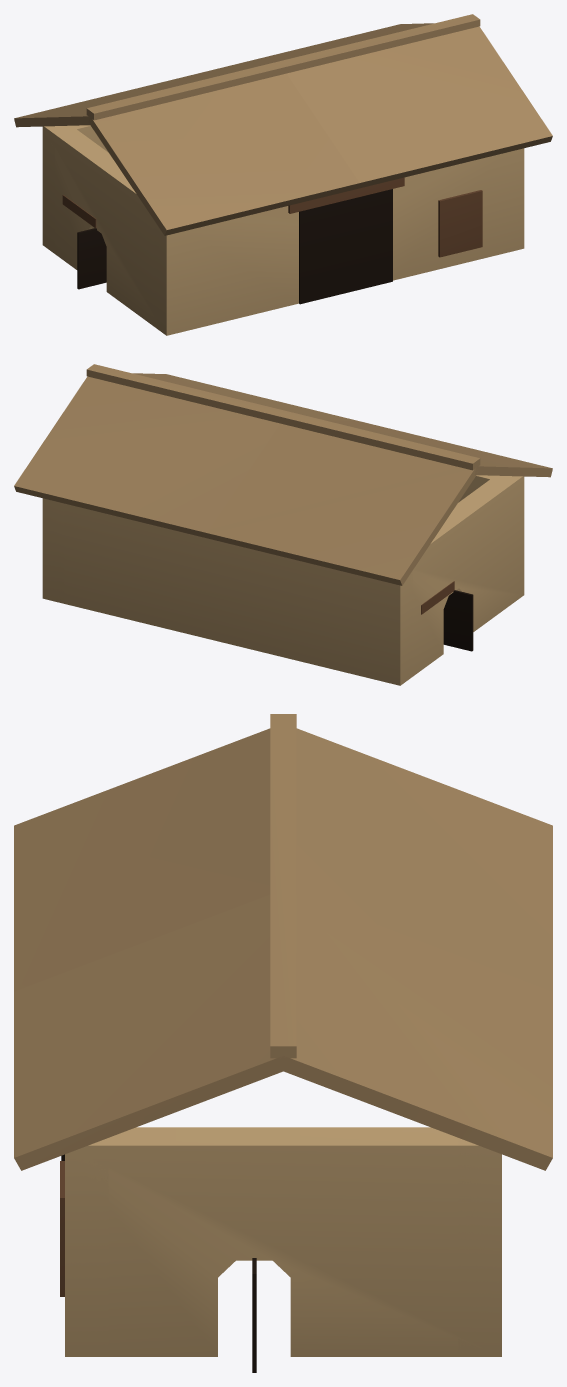
File: republic_warehouse_lod1.glb
The picture shows the model from 3 angles, top to bottom: view 1: azimuth 30°, elevation 25°; view 2: azimuth 150°, elevation 25°; view 3: azimuth 270°, elevation 25°; orthographic projection. The views are drawn at different scales.
Visible parts, largest first — view 1: GEO-Arch_republic_warehouse_LOD1; view 2: GEO-Arch_republic_warehouse_LOD1; view 3: GEO-Arch_republic_warehouse_LOD1.
Boxes of the visible parts, x1,y1,x2,y2 form: GEO-Arch_republic_warehouse_LOD1: (14, 14, 552, 335); GEO-Arch_republic_warehouse_LOD1: (14, 364, 552, 685); GEO-Arch_republic_warehouse_LOD1: (14, 714, 552, 1372).
Size of the model in its own units: 11.04 by 4.89 by 7.4.
